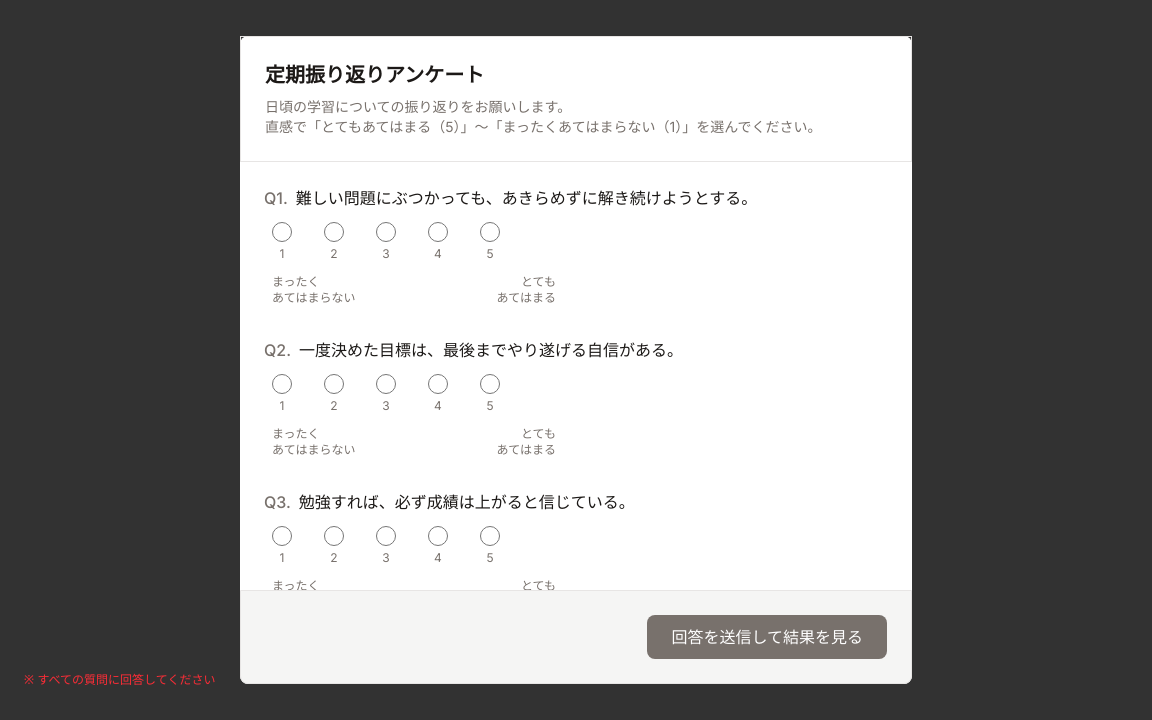
Test: SurveyModal › 送信処理 › 送信中はボタンが無効になり、送信中テキストを表示する
Expected: the text "難しい問題にぶつかっても、あきらめずに解き続けようとする。" is shown, x1=296 y1=188 x2=757 y2=208
Click the radio button labelled "1" below "難しい問題にぶつかっても、あきらめずに解き続けようとする。". click: (282, 232)
box: x1=272 y1=222 x2=292 y2=242
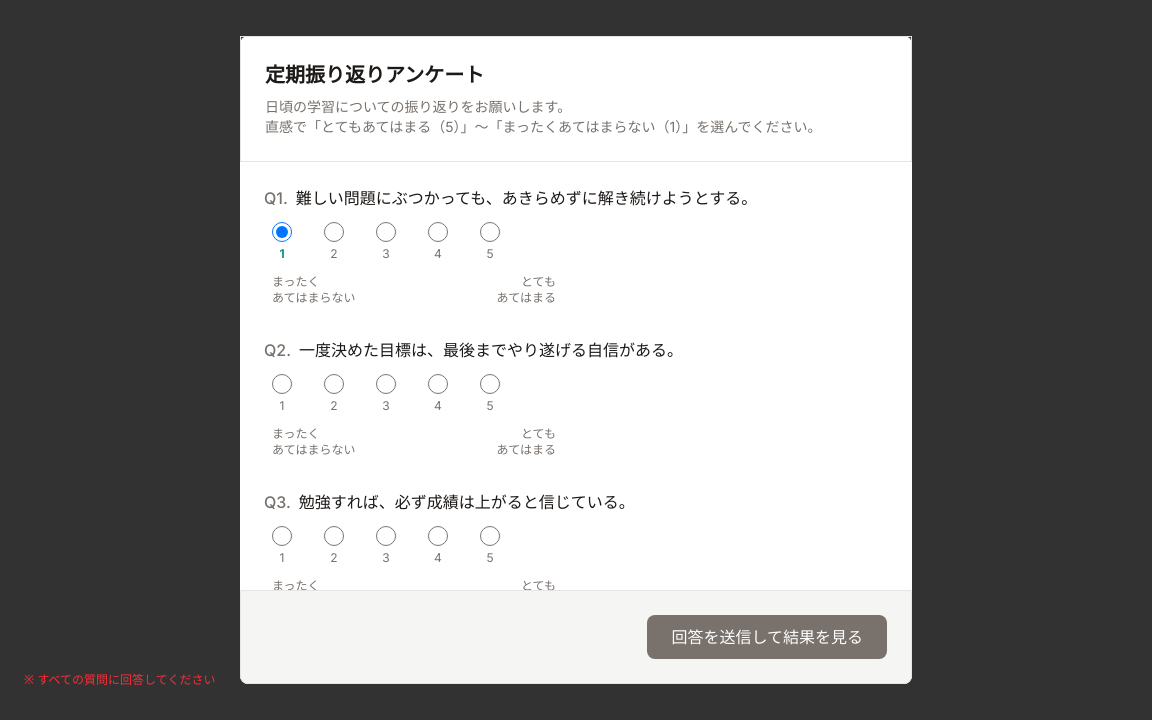
Click the radio button labelled "1" below "一度決めた目標は、最後までやり遂げる自信がある。". click: (282, 384)
box: x1=272 y1=374 x2=292 y2=394
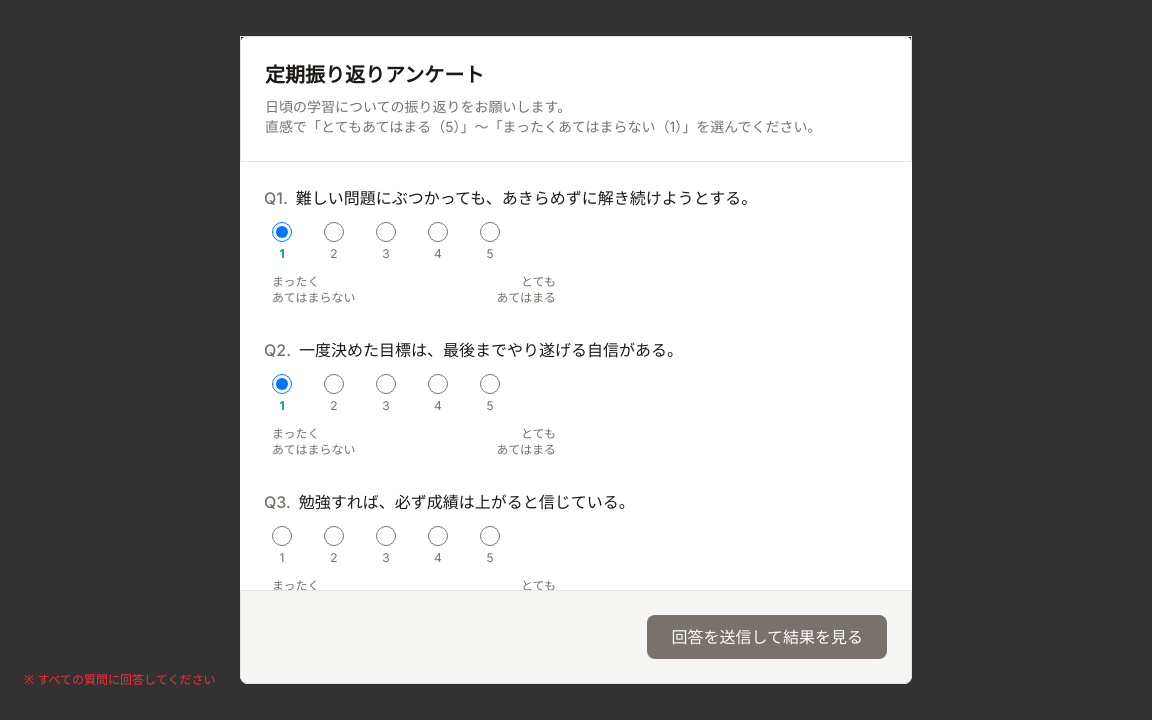
Click the radio button labelled "1" below "勉強すれば、必ず成績は上がると信じている。". click: (282, 536)
box: x1=272 y1=526 x2=292 y2=546
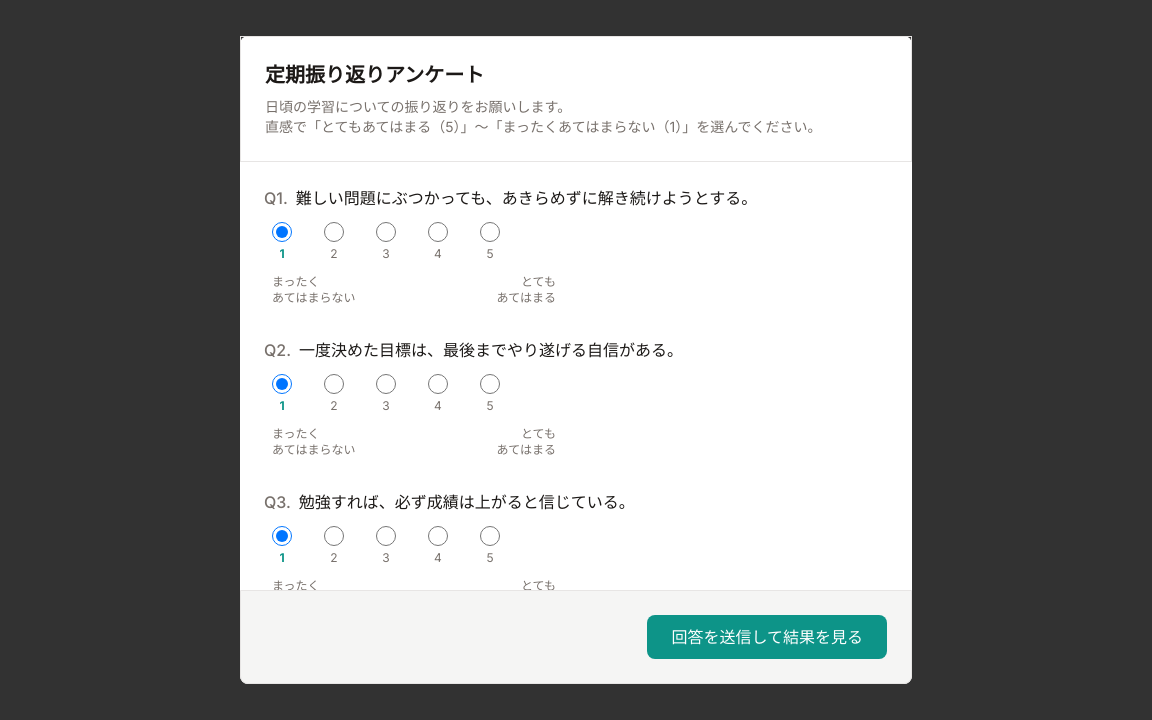
Click the button "回答を送信して結果を見る". click: (767, 637)
box: x1=648 y1=615 x2=887 y2=659
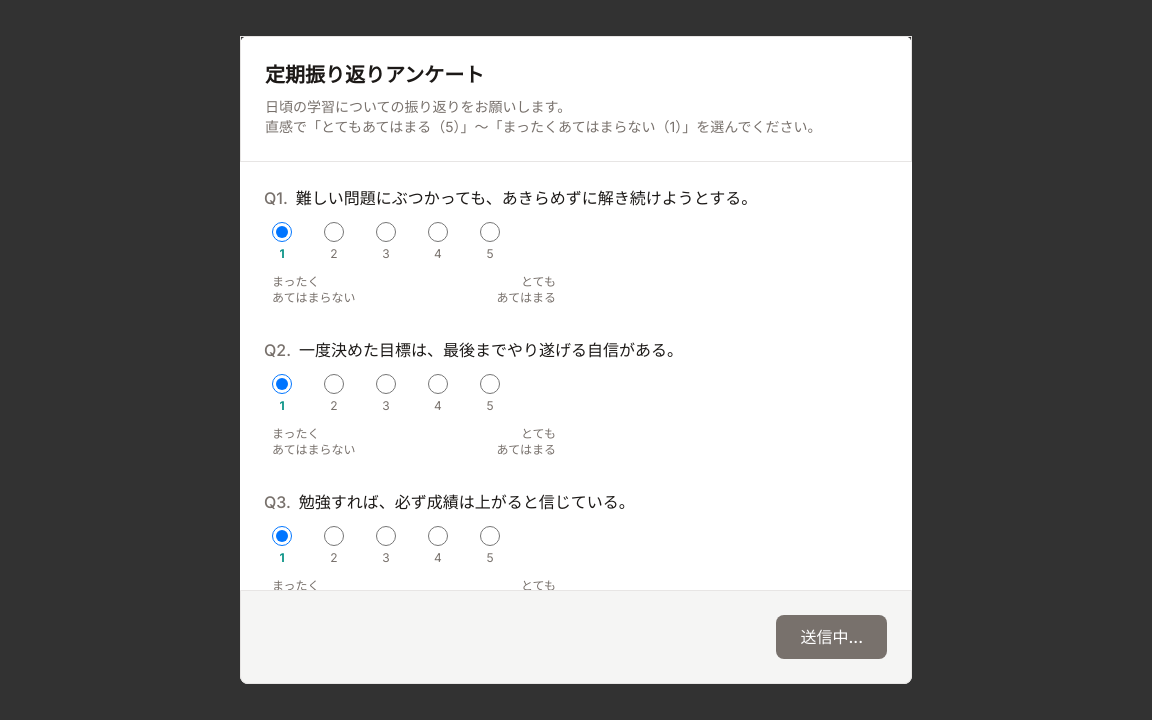
Now the button "送信中..." is disabled, box x1=776 y1=615 x2=887 y2=659
